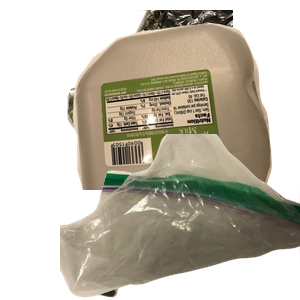glass: (71, 152, 260, 300)
metal: (60, 10, 300, 190)
plastic: (71, 21, 300, 201)
trash: (60, 134, 300, 300)
